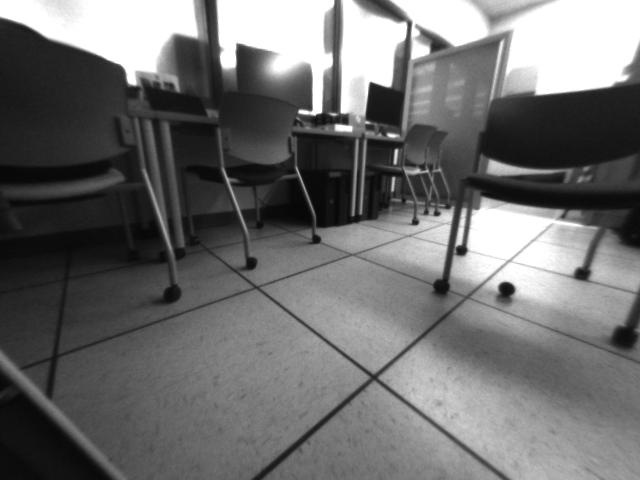dogtoy: (491, 276, 521, 301)
